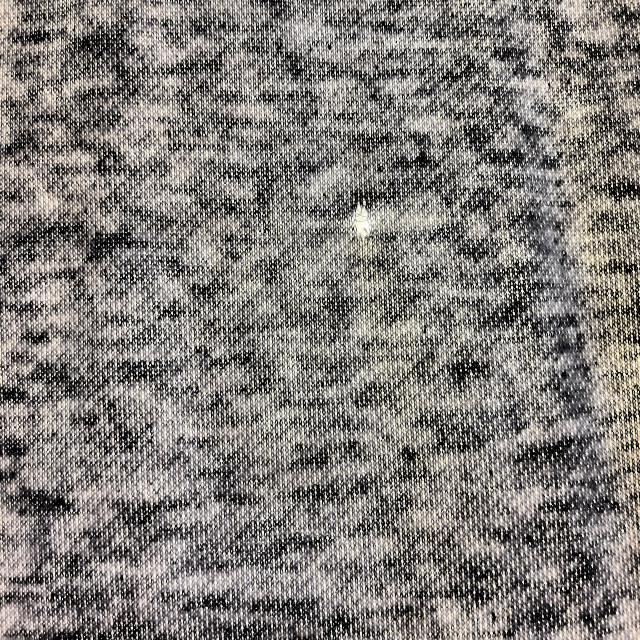Hole: (341, 195, 384, 249)
